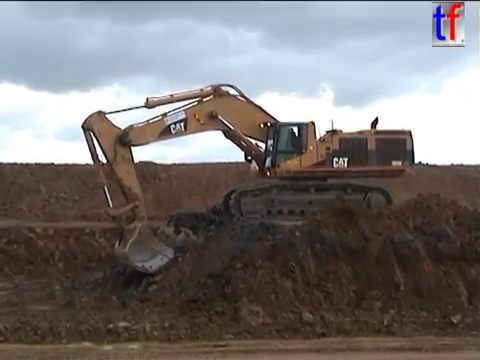excavator: (78, 80, 418, 277)
